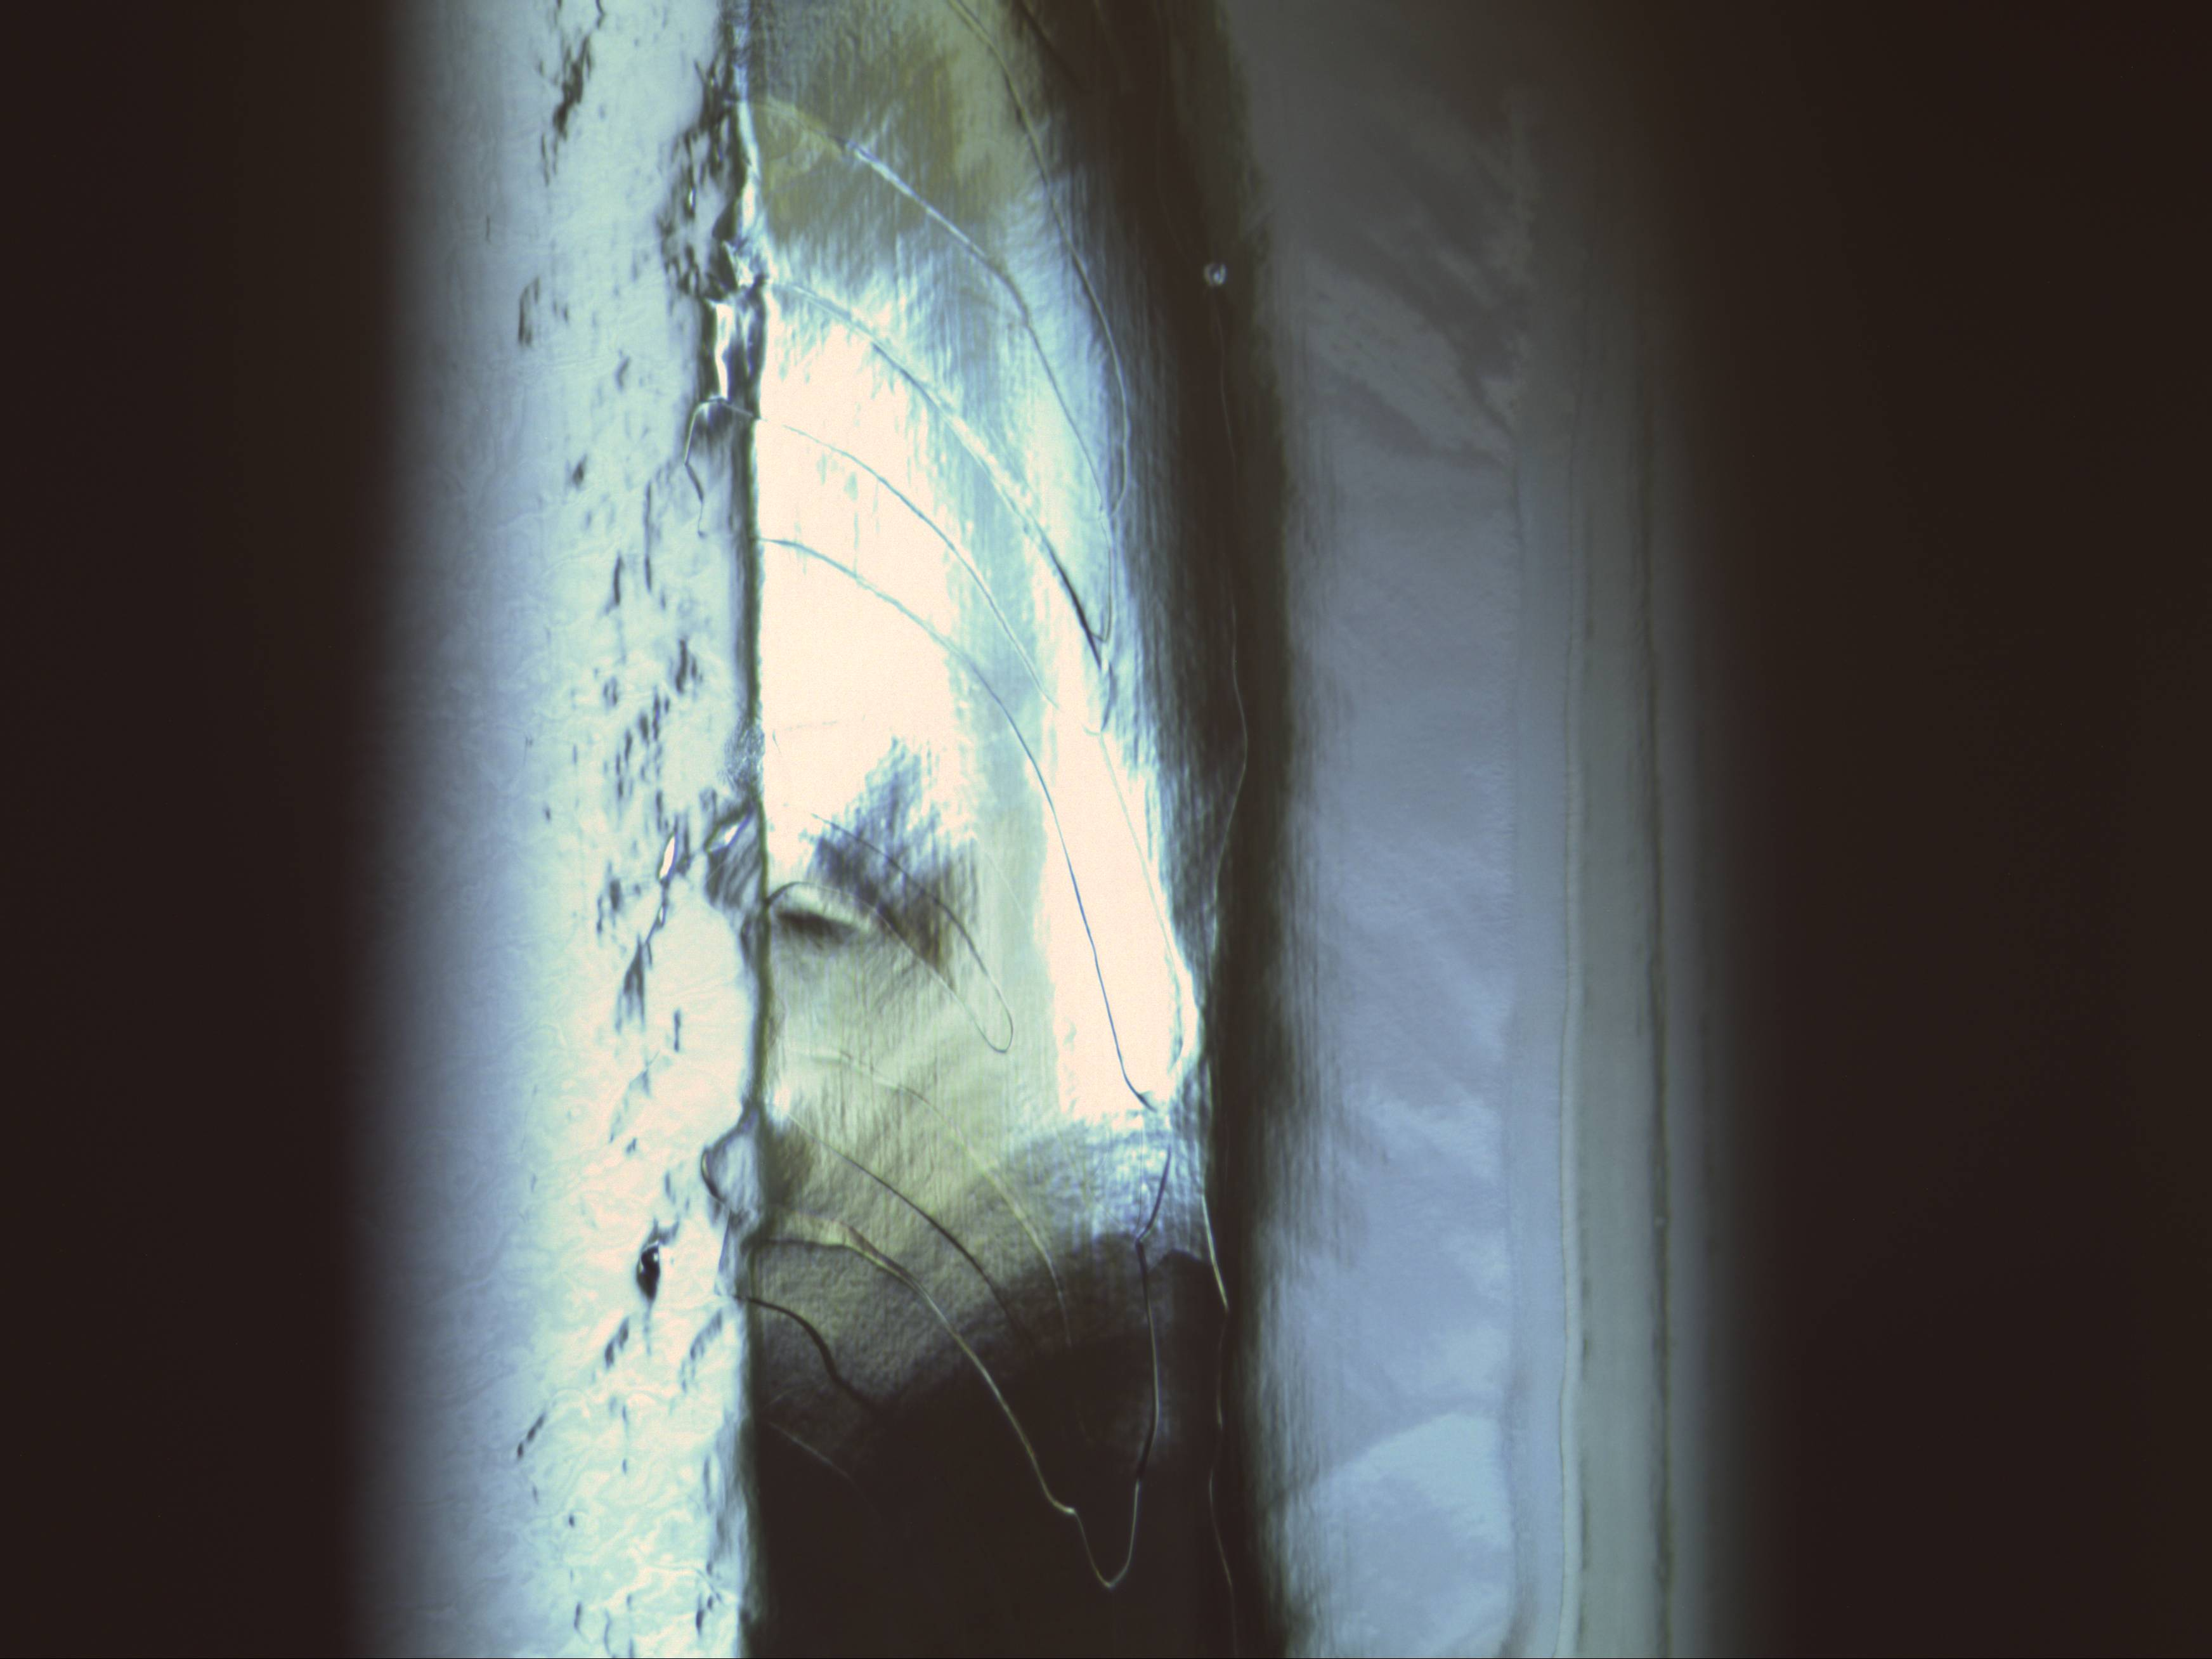defect: (631, 1234, 669, 1291), (1200, 253, 1235, 296)
